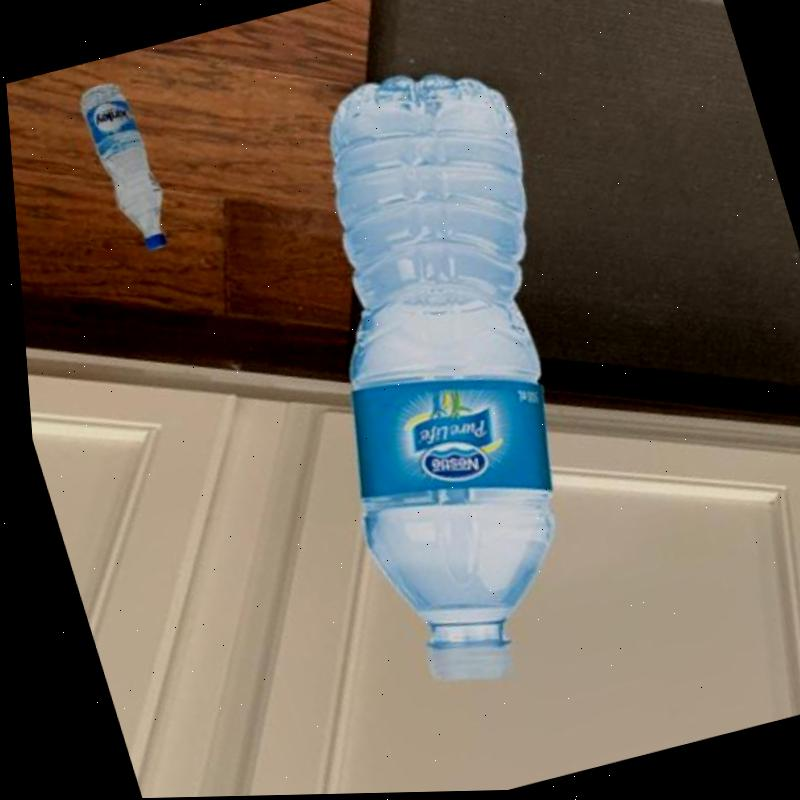botella: (224, 45, 666, 704), (68, 76, 179, 261)
